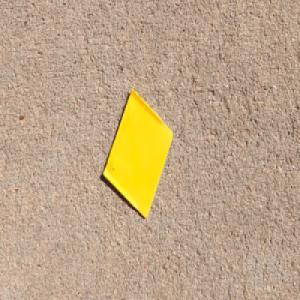PlasticPart: (101, 85, 174, 220)
